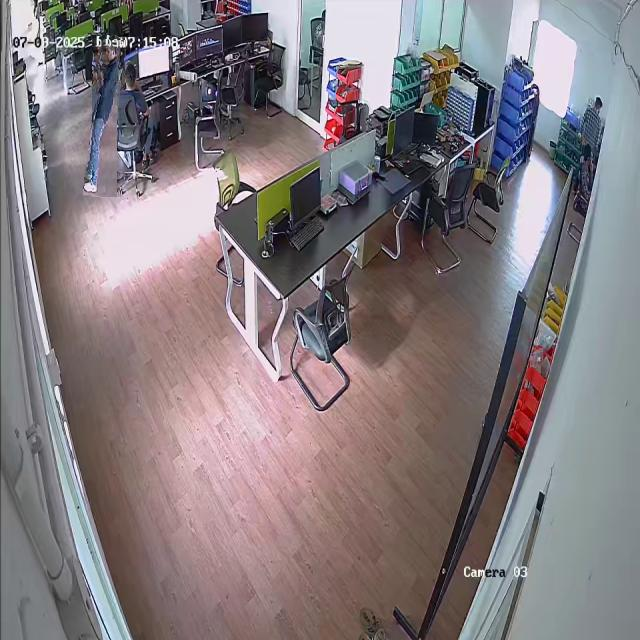person: (87, 35, 122, 198)
